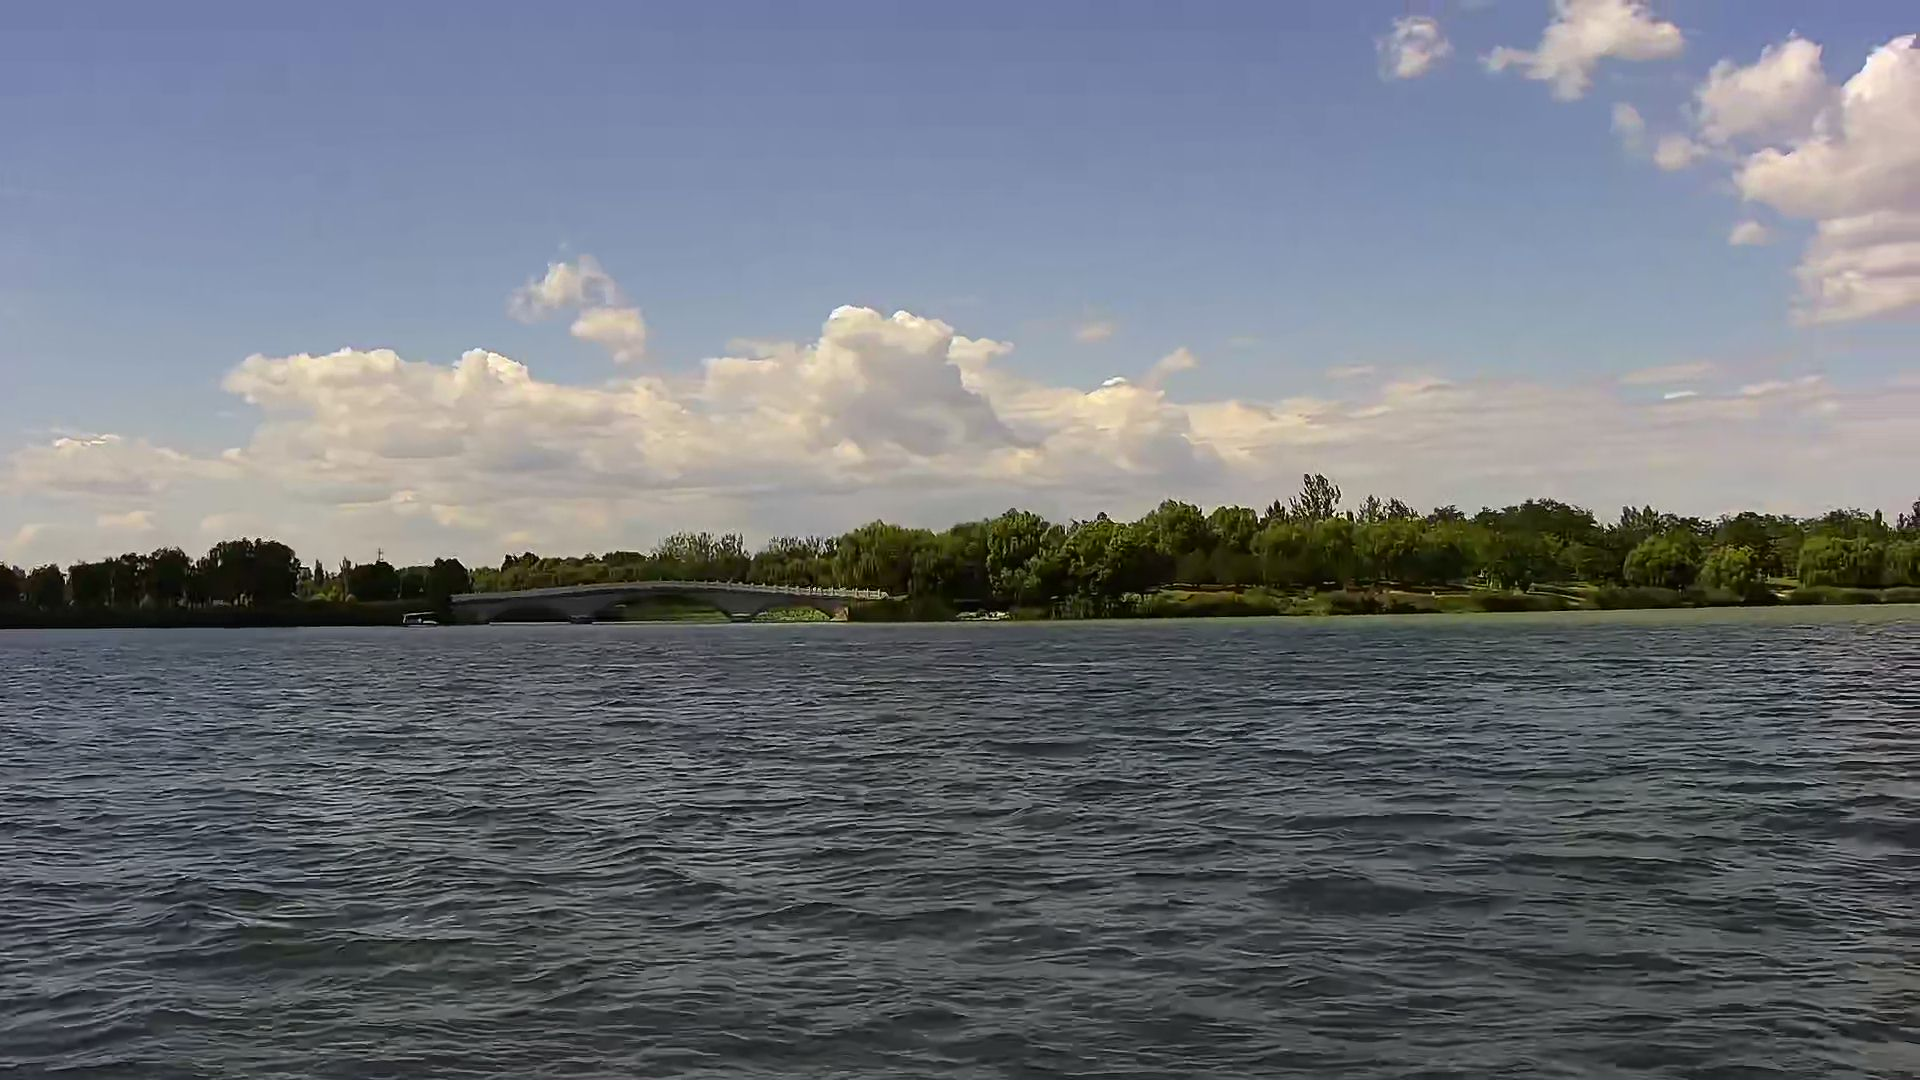bridge: (450, 578, 902, 629)
